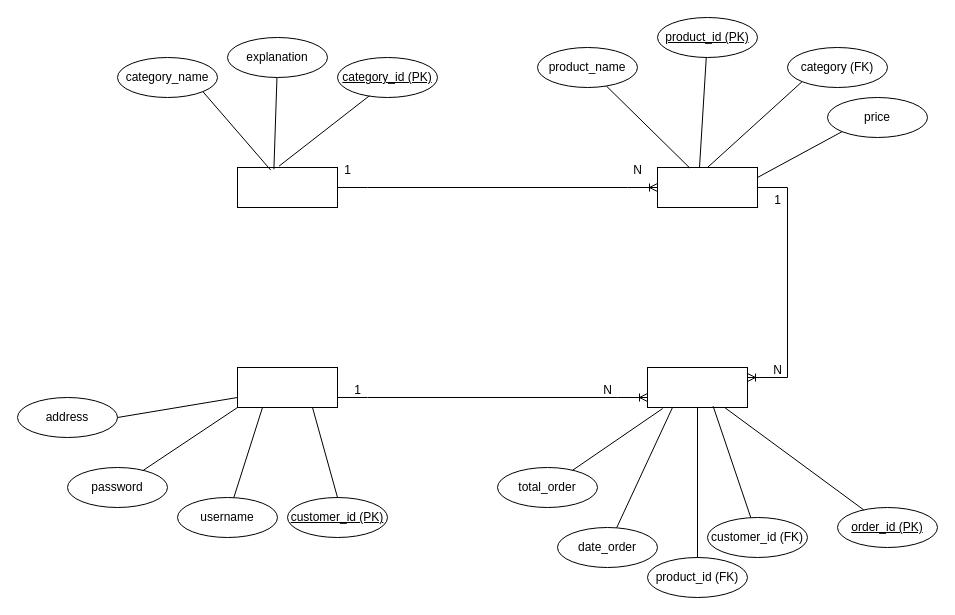
Image size: 955x615. Some labels were removed from this diagram. Here are the shapes that lost their labels. From the top down, the box of each, then its label:
(236, 166, 338, 208): category
(656, 166, 758, 208): product
(236, 366, 338, 408): customer
(646, 366, 748, 408): order
